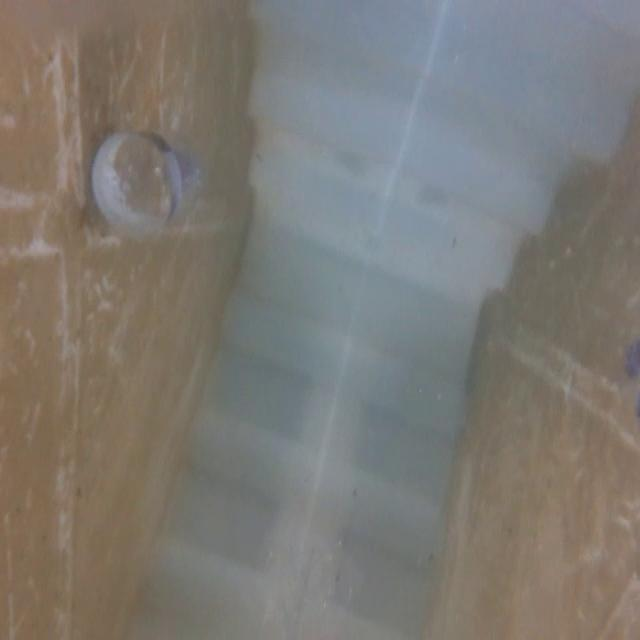plastic bottle: (65, 106, 238, 261)
